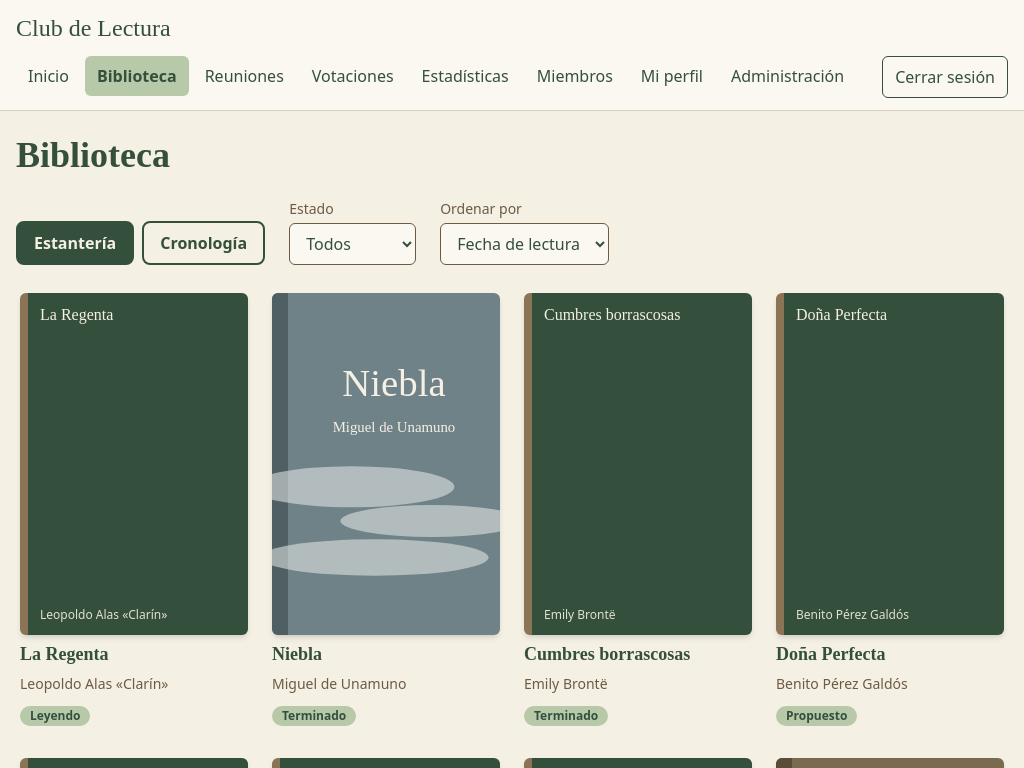
Test case: Biblioteca › says when no book has the chosen status, and shows all books again with «Todos»
Expected: the heading "Biblioteca" is shown, [16,135,170,175]
Select "Archivado" in the dropdown labelled "Estado". click: (353,244)
box: [289,223,416,265]
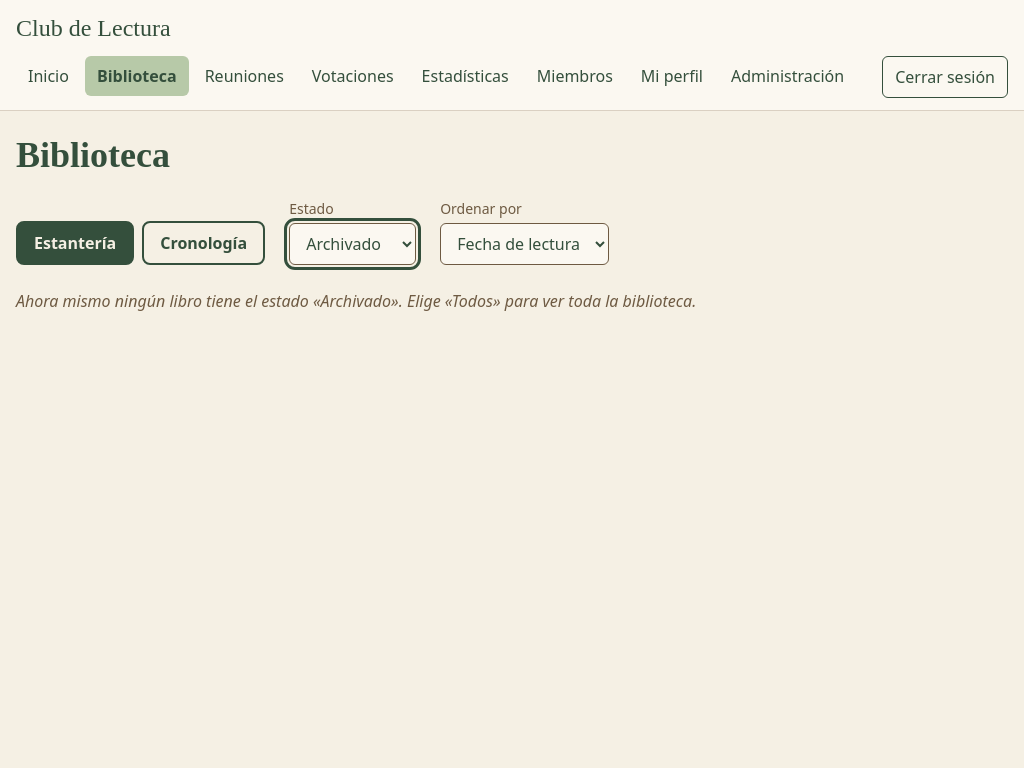
Result: the text "ningún libro tiene el estado «Archivado»" is shown at [16,290,696,312]
Click the button "Cronología". click: (204,243)
box: [142,221,265,265]
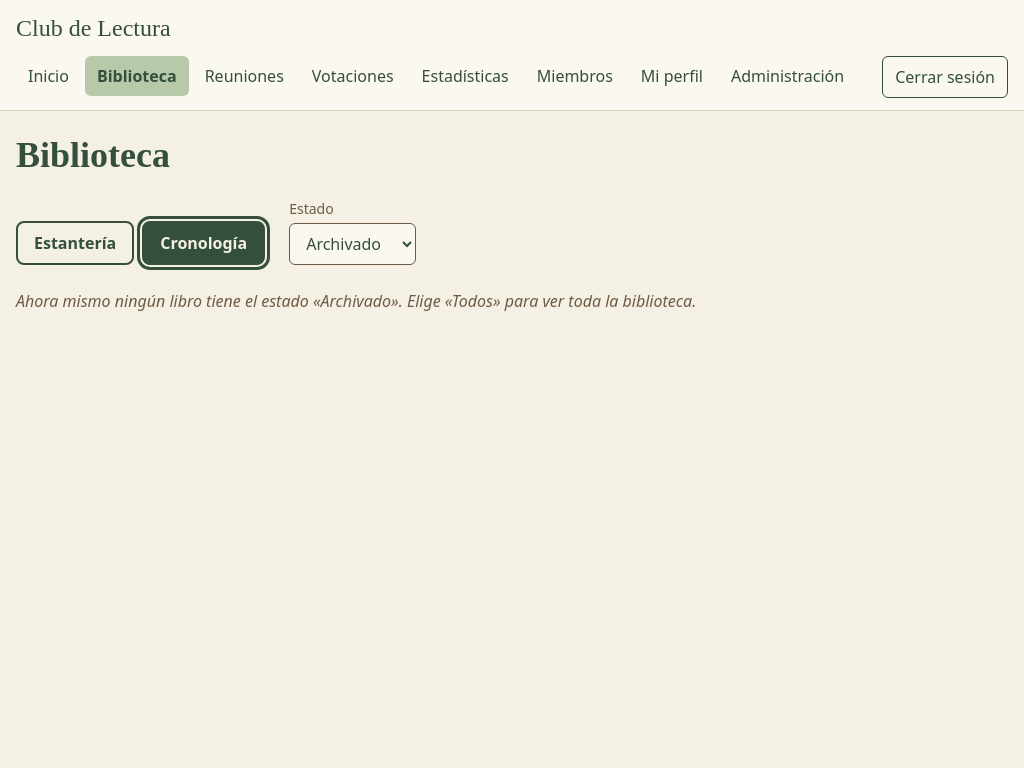
Result: the text "ningún libro tiene el estado «Archivado»" is shown at [16,290,696,312]
Select "Todos" in the dropdown labelled "Estado". click: (353,244)
box: [289,223,416,265]
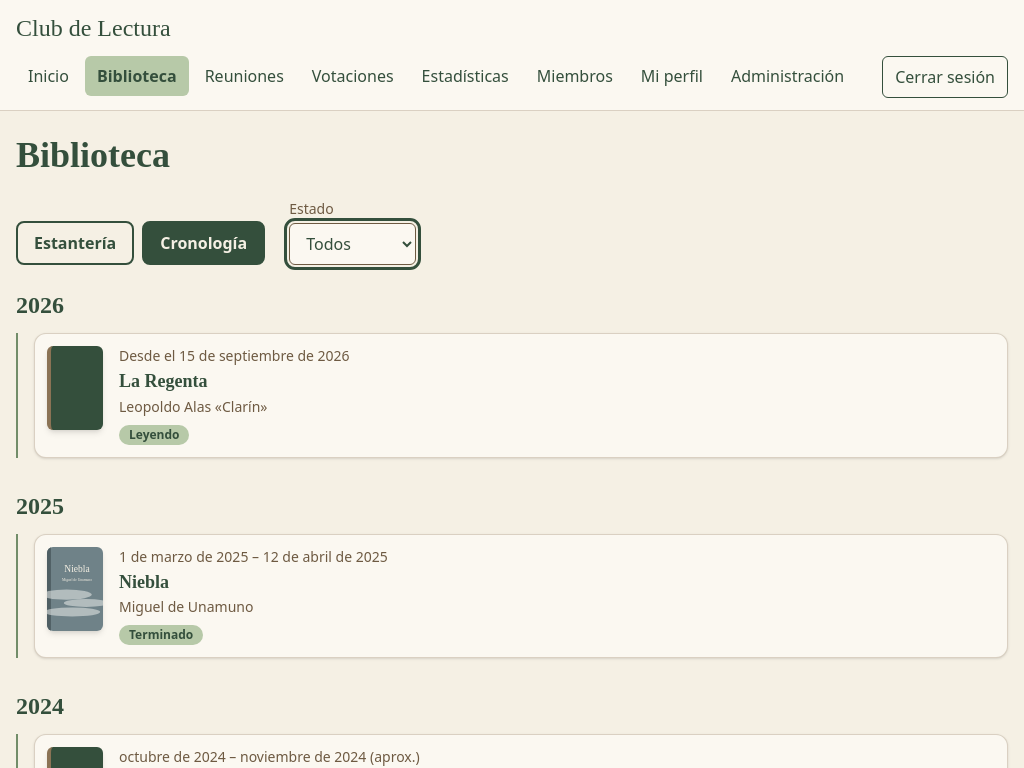
Result: the text "ningún libro tiene" is gone
